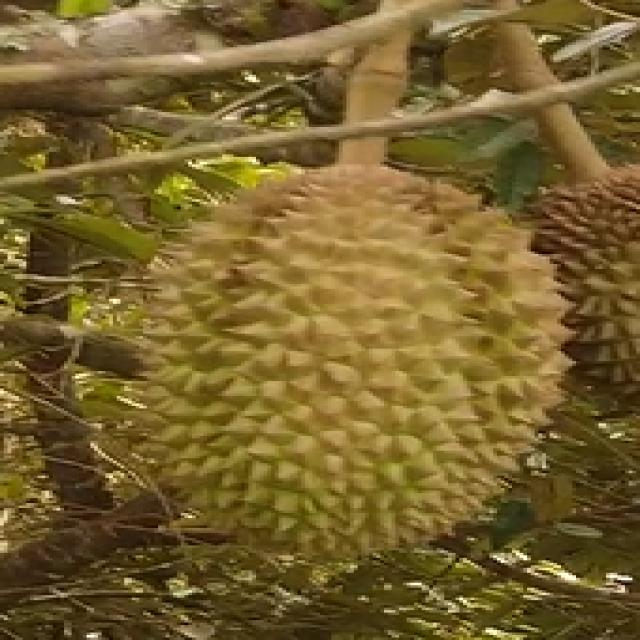mature: (142, 159, 569, 560)
